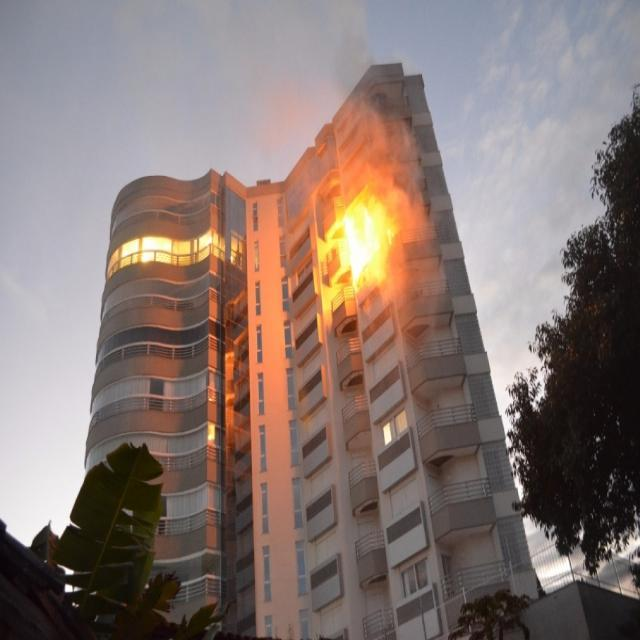Fire: (327, 170, 403, 282)
